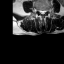CCS_stenosis: (42, 8, 44, 16)
LFS_normal: (46, 7, 48, 13)
LLS_normal: (44, 8, 46, 14)
RFS_normal: (37, 7, 40, 14)
RLS_normal: (40, 7, 42, 15)
